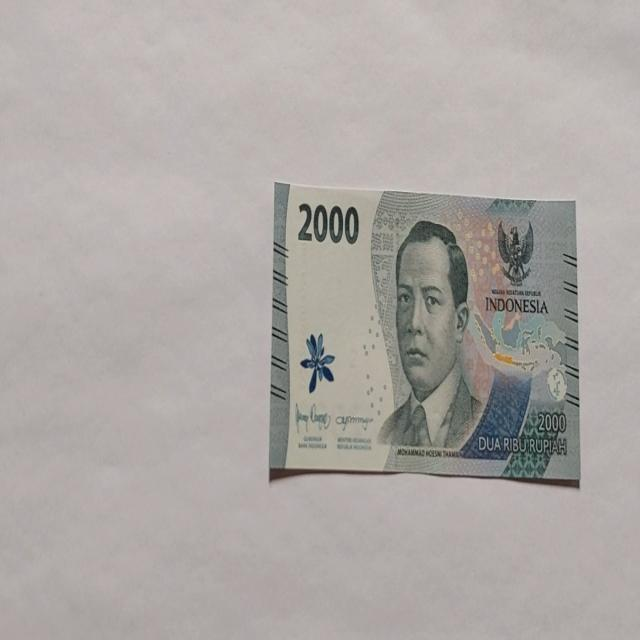dua ribu rupiah: (269, 180, 580, 483), (376, 218, 484, 452)
